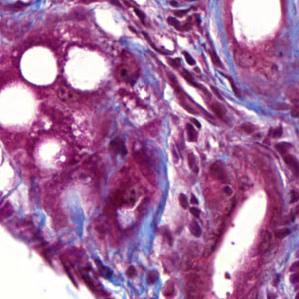steatosis: (14, 43, 63, 88)
